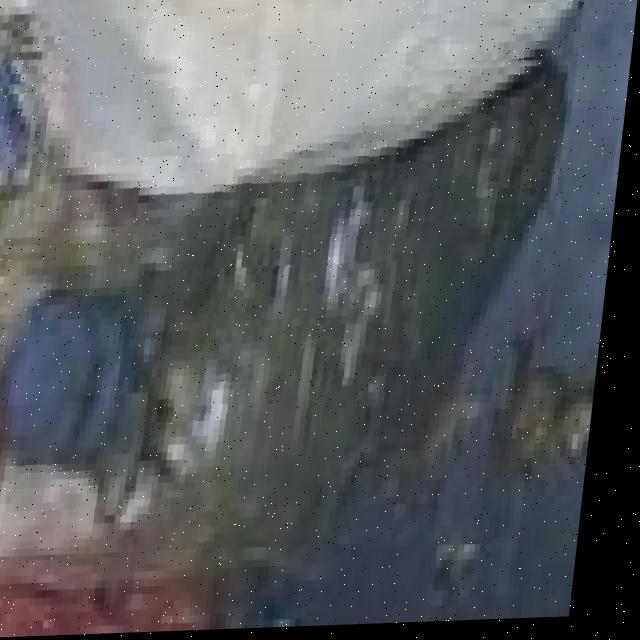plasticbottle: (0, 48, 568, 559)
